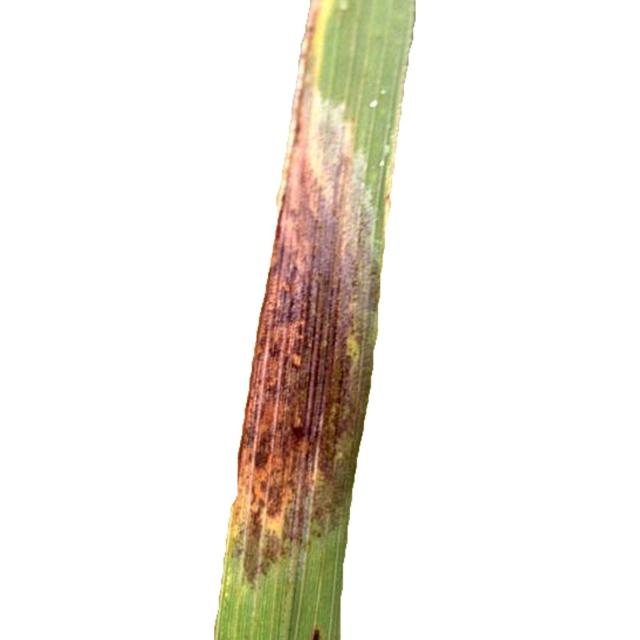Leaf scald: (174, 3, 468, 640)
